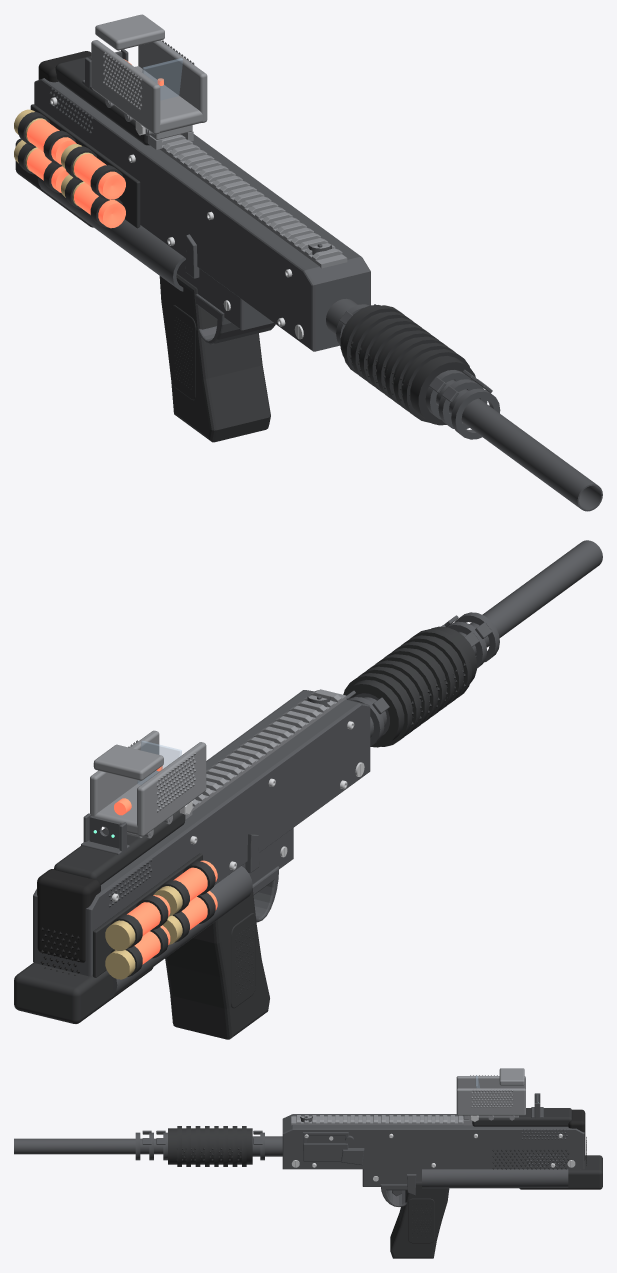
The model's file is shotgun.glb.
The picture shows the model from 3 angles, top to bottom: view 1: azimuth 30°, elevation 25°; view 2: azimuth 150°, elevation 25°; view 3: azimuth 270°, elevation 25°; orthographic projection. The views are drawn at different scales.
Parts seen in each view (by area): view 1: bullpup-shotgun-loadout, pump; view 2: bullpup-shotgun-loadout, pump; view 3: bullpup-shotgun-loadout, pump.
Boxes of the visible parts, x1,y1,x2,y2 form: bullpup-shotgun-loadout: [14, 14, 602, 511]; pump: [340, 305, 475, 425]; bullpup-shotgun-loadout: [14, 540, 602, 1039]; pump: [343, 626, 476, 747]; bullpup-shotgun-loadout: [14, 1068, 602, 1258]; pump: [168, 1126, 252, 1166].
Size of the model in its own units: 0.0816 by 0.2545 by 0.765.
